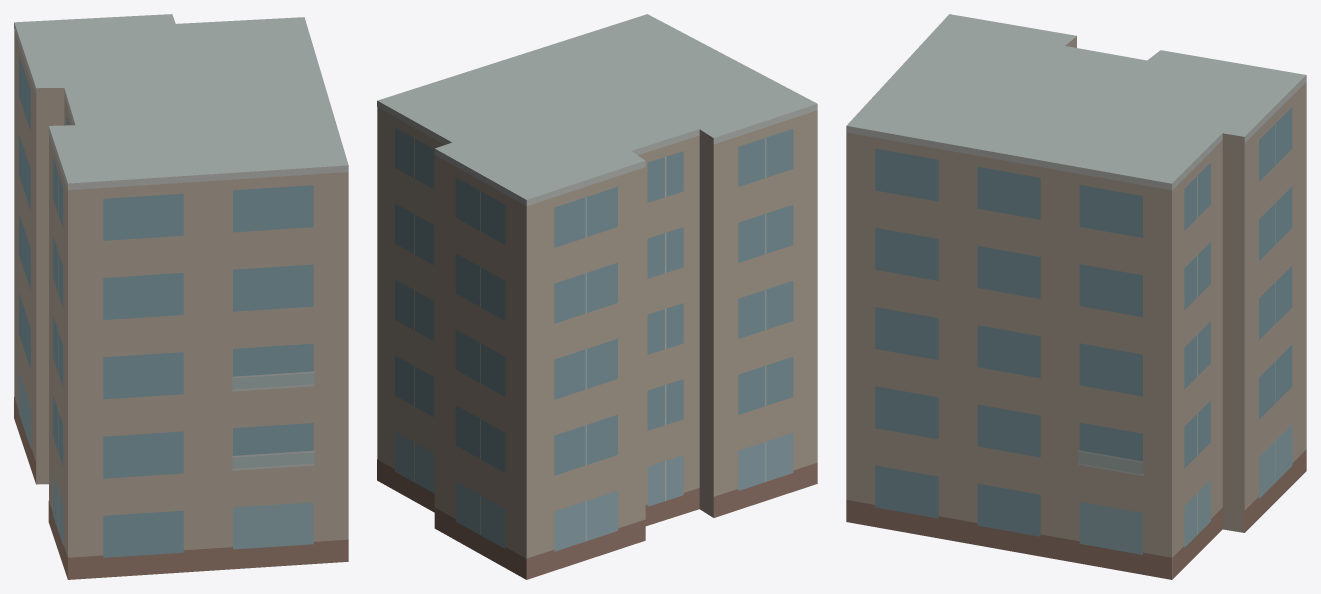
The model's file is survey-upis-32831488.glb.
3 renders of one model, left to right at view 1: azimuth 30°, elevation 25°; view 2: azimuth 150°, elevation 25°; view 3: azimuth 270°, elevation 25°, orthographic. The views are drawn at different scales.
Visible parts, largest first — view 1: survey-upis-32831488.tmp; view 2: survey-upis-32831488.tmp; view 3: survey-upis-32831488.tmp.
Boxes of the visible parts, bbox=[...] form: survey-upis-32831488.tmp: bbox=[14, 14, 348, 579]; survey-upis-32831488.tmp: bbox=[377, 14, 817, 579]; survey-upis-32831488.tmp: bbox=[846, 14, 1306, 579].
Bounding box in the file's own units: 13.33 × 14.5 × 15.28.
